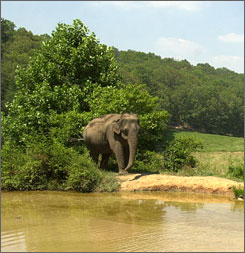elephant: (69, 107, 149, 181)
